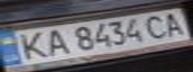3: (109, 19, 130, 47)
4: (124, 16, 148, 44), (90, 20, 112, 50)
8: (69, 24, 93, 52)
A: (39, 27, 72, 57), (157, 10, 190, 37)
C: (139, 11, 172, 39)
K: (12, 29, 51, 61)
